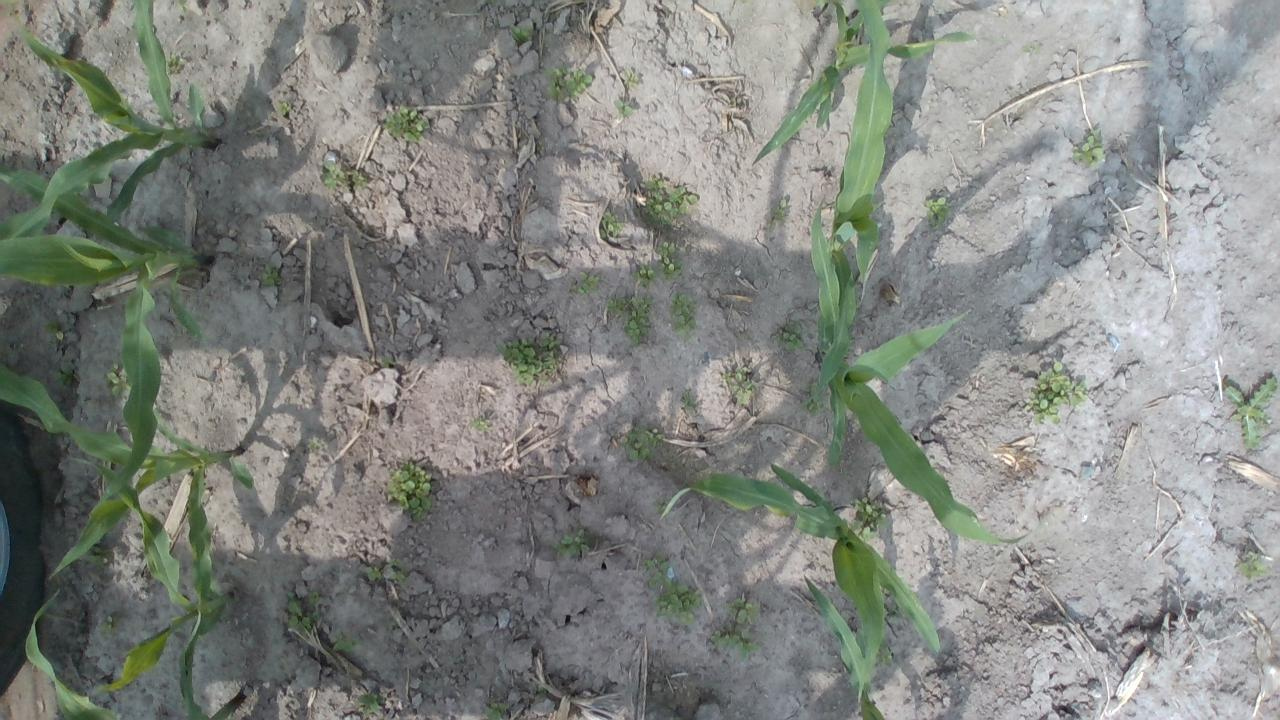Maize: (809, 198, 1026, 548), (0, 163, 211, 504), (657, 462, 942, 655), (0, 363, 254, 578), (0, 0, 216, 238), (25, 456, 224, 696), (754, 0, 974, 163), (808, 0, 896, 402), (25, 590, 245, 720), (802, 574, 888, 720)
Weeds: (1223, 374, 1280, 450), (1029, 362, 1088, 425), (638, 178, 700, 229), (496, 335, 560, 384), (386, 462, 432, 521), (709, 624, 760, 662), (657, 583, 703, 625), (847, 496, 887, 543), (542, 64, 594, 97), (384, 106, 428, 142), (622, 424, 662, 462), (286, 590, 321, 633), (624, 296, 652, 346), (668, 290, 698, 336), (550, 528, 592, 558), (1072, 128, 1104, 167), (656, 241, 684, 281), (640, 557, 671, 590), (724, 369, 752, 405), (727, 596, 759, 626), (774, 318, 802, 352), (1238, 550, 1270, 578), (800, 384, 825, 418), (105, 368, 132, 397), (926, 196, 951, 227), (598, 209, 624, 238), (319, 160, 344, 190), (632, 264, 656, 288), (388, 558, 408, 584), (334, 634, 360, 654), (576, 271, 598, 294), (260, 262, 280, 286), (875, 639, 893, 665), (359, 692, 380, 714), (54, 366, 72, 391), (486, 701, 508, 720), (510, 25, 534, 42), (46, 320, 66, 340), (84, 545, 105, 564), (614, 100, 634, 119), (604, 296, 625, 314), (364, 566, 384, 584), (772, 198, 789, 219), (624, 68, 640, 90), (100, 614, 116, 636), (164, 55, 186, 70), (351, 170, 368, 186), (891, 608, 907, 624), (472, 418, 489, 431), (654, 502, 672, 514), (1021, 44, 1040, 55), (274, 102, 290, 114), (175, 0, 189, 13), (682, 398, 698, 409), (879, 585, 890, 600), (382, 356, 394, 368), (306, 440, 320, 450), (534, 687, 546, 697)
